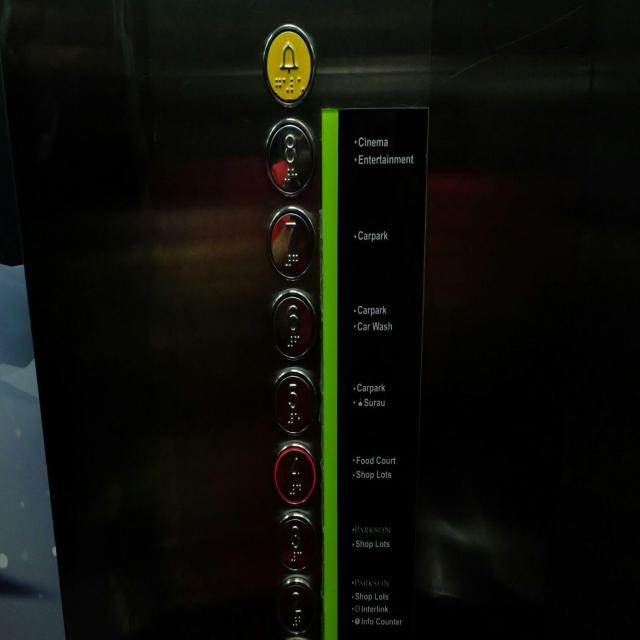2: (275, 576, 317, 634)
3: (274, 508, 318, 571)
4: (273, 441, 317, 505)
5: (270, 366, 318, 435)
6: (268, 287, 319, 359)
7: (268, 205, 318, 280)
8: (263, 117, 317, 197)
alarm: (262, 23, 316, 105)
